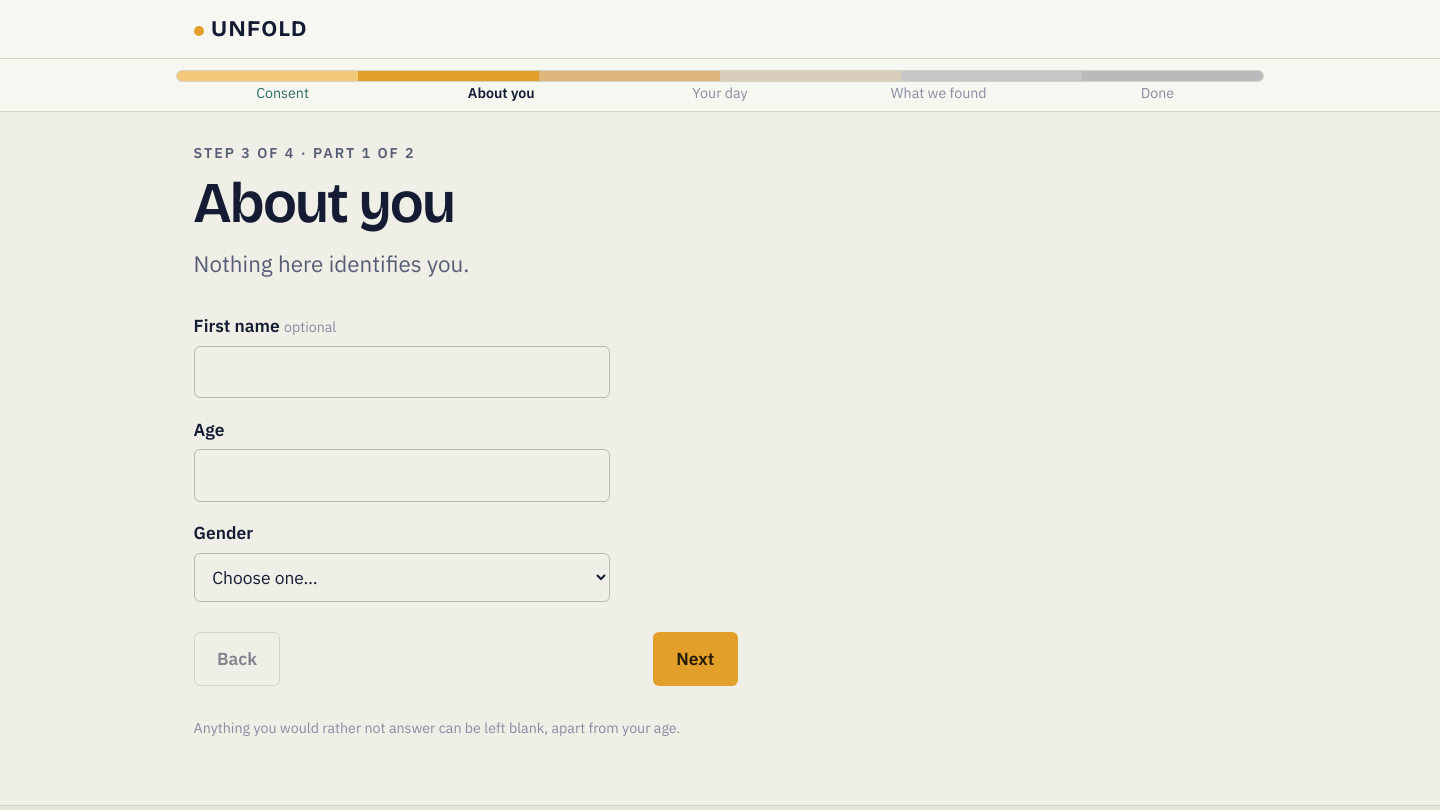
Test: demographics blocks advancing when a required field is empty
Expected: the number field labelled "Age" is shown, [194, 449, 610, 502]
Click the button "Next" at (695, 659), box [653, 632, 738, 686]
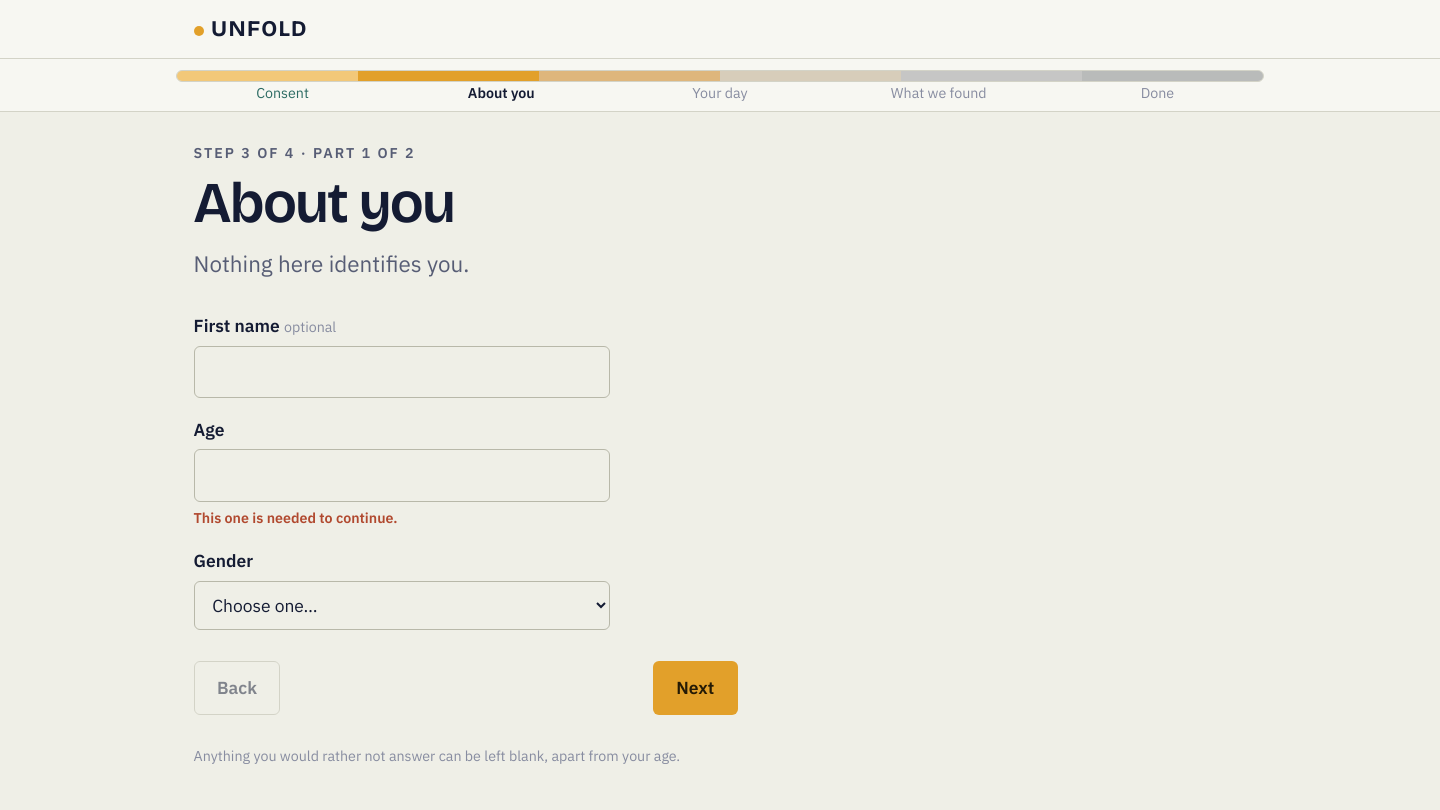
Expected: the heading "About you" is shown, [194, 168, 454, 238]
Expected: the message shows "needed to continue", [194, 508, 398, 527]
